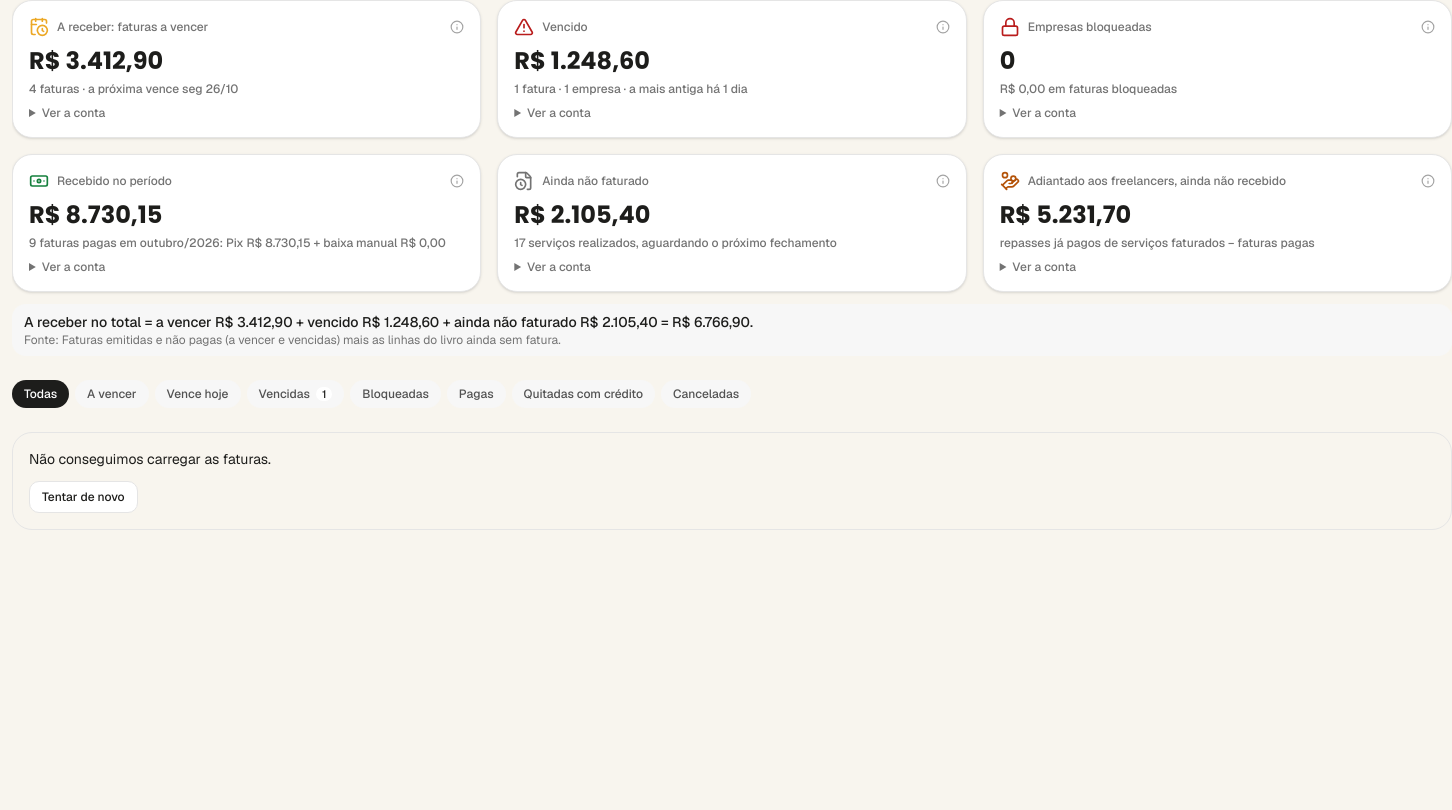
InvoicesView — estados › erro: 'Não conseguimos carregar as faturas.' com 'Tentar de novo'
This screenshot has width=1452, height=810.
Expected: the text "Não conseguimos carregar as faturas." is shown, [29,450,271,468]
Click the button "Tentar de novo".
click(83, 497)  # box [29,481,138,513]
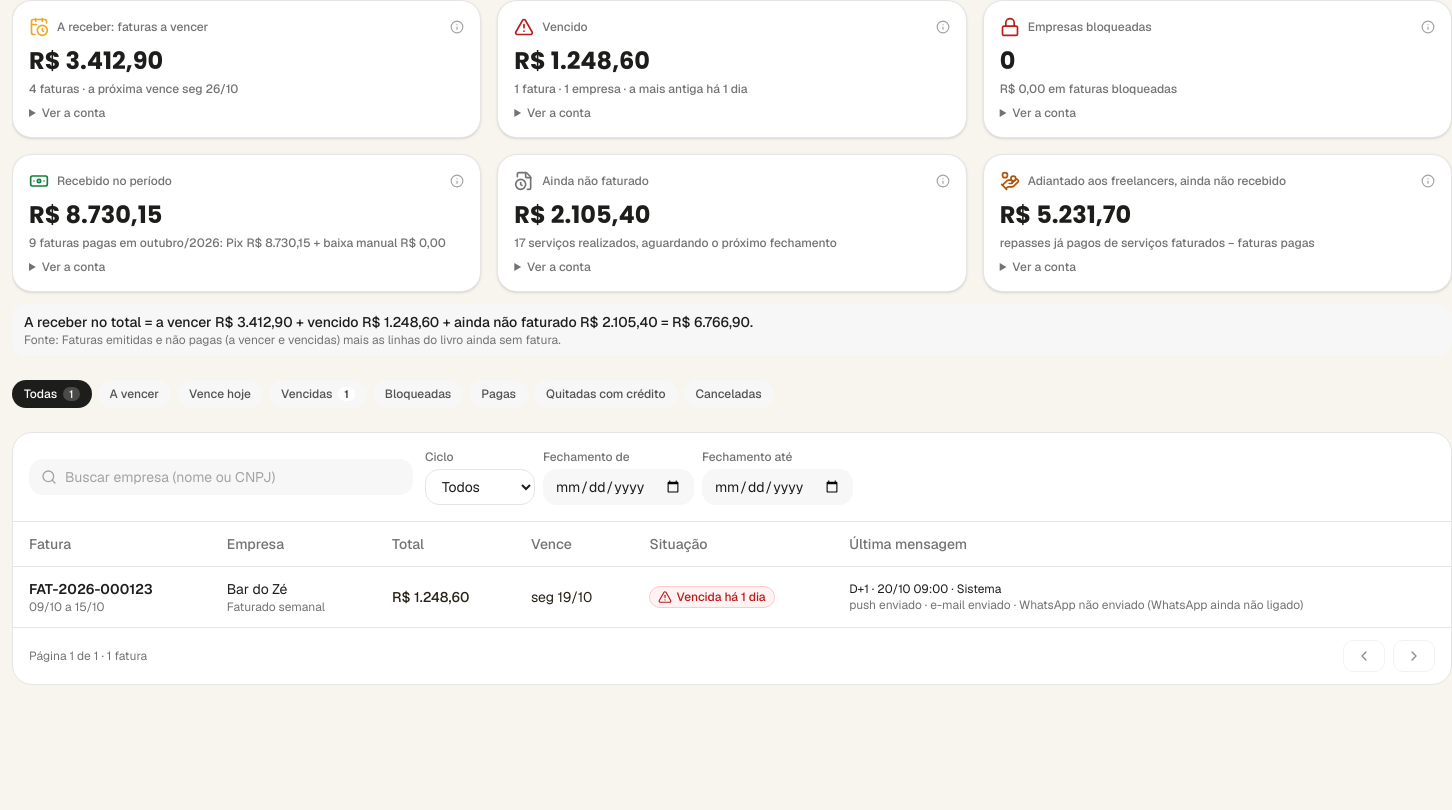
Now the table is shown, box [13,522,1451,627]
